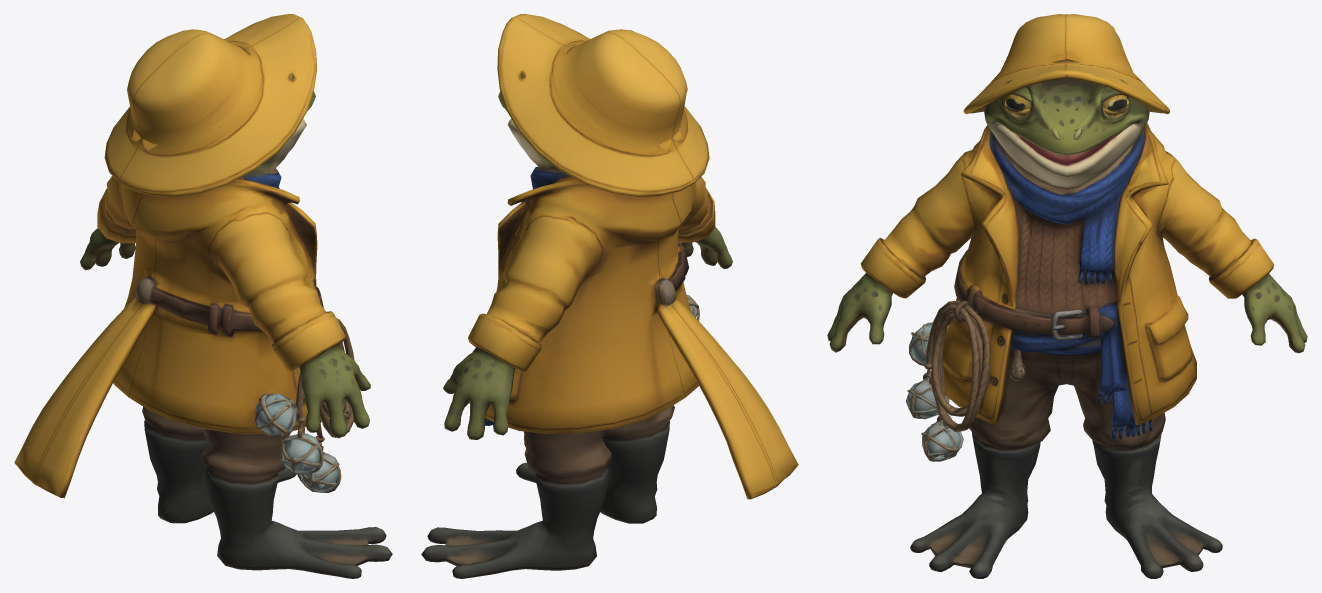
The model's file is harpooner_tripo_raw.glb.
3 renders of one model, left to right at view 1: azimuth 30°, elevation 25°; view 2: azimuth 150°, elevation 25°; view 3: azimuth 270°, elevation 25°, orthographic.
Visible parts, largest first — view 1: tripo_node_72387df3-59b2-4f20-ad01-92277924d383; view 2: tripo_node_72387df3-59b2-4f20-ad01-92277924d383; view 3: tripo_node_72387df3-59b2-4f20-ad01-92277924d383.
Boxes of the visible parts, x1=… form: tripo_node_72387df3-59b2-4f20-ad01-92277924d383: x1=14, y1=14, x2=392, y2=578; tripo_node_72387df3-59b2-4f20-ad01-92277924d383: x1=421, y1=14, x2=798, y2=578; tripo_node_72387df3-59b2-4f20-ad01-92277924d383: x1=827, y1=14, x2=1307, y2=578.
Size of the model in its own units: 0.6309 by 0.998 by 0.873.
Materials: 1 (1 with a texture image).
